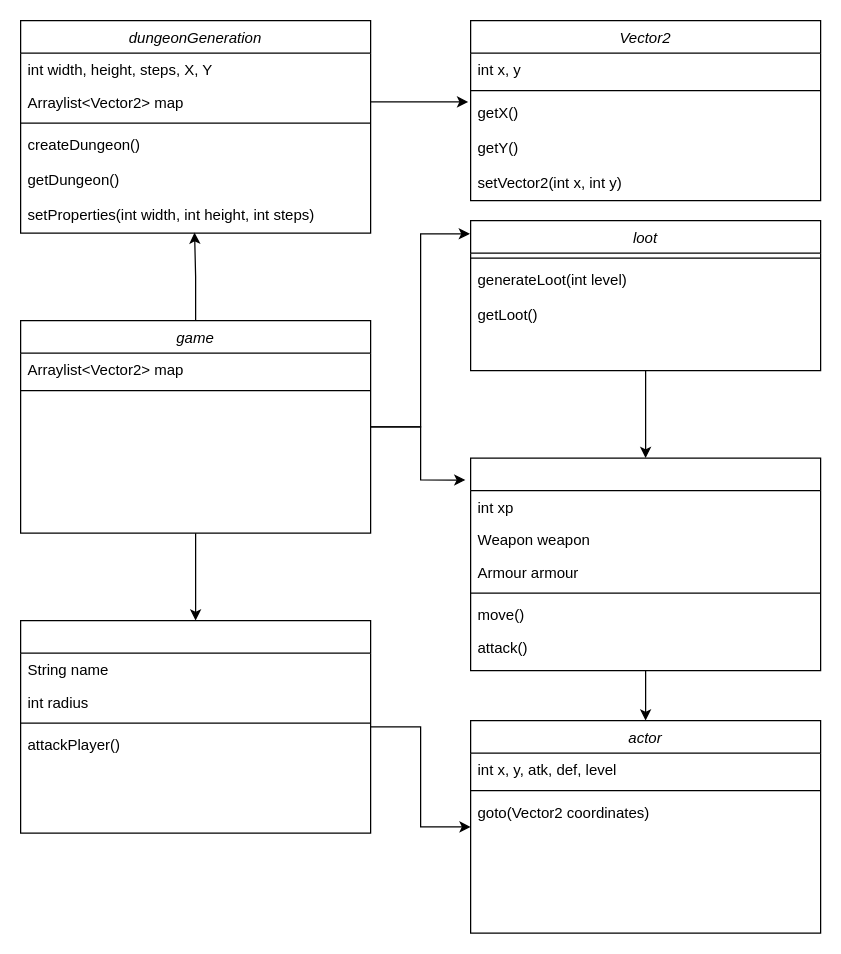
This 841x954 diagram has some shape labels left out. Each missing label, with the box of its shape:
enemy: (19, 619, 371, 833)
player: (469, 457, 821, 671)
